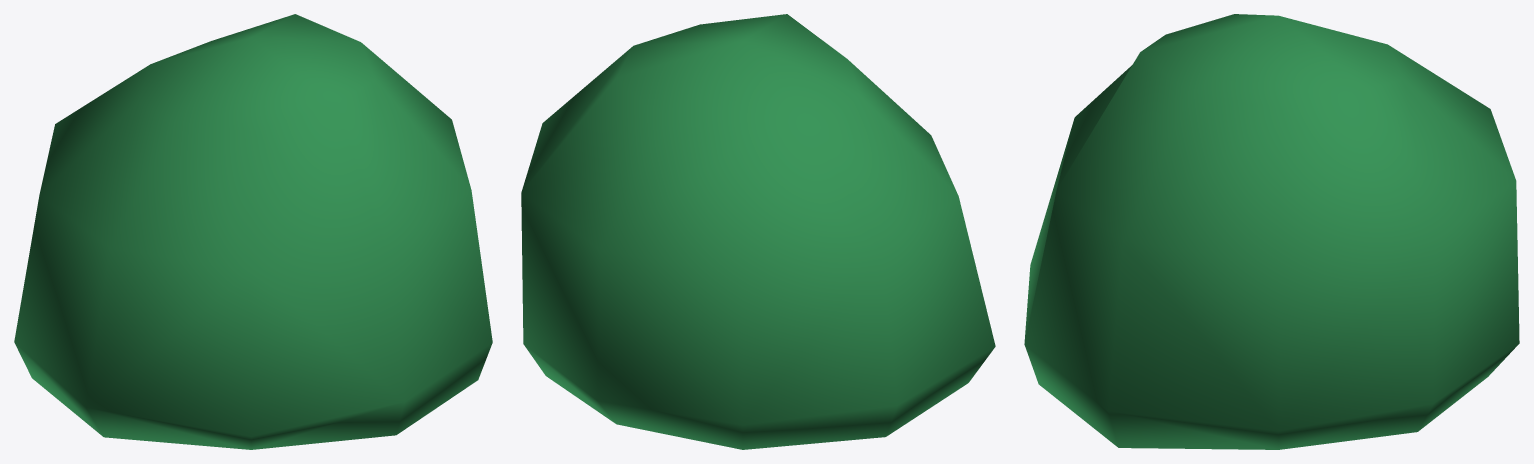
Rendered from flora_bush_boxwood.gltf.
The picture shows the model from 3 angles, left to right: view 1: azimuth 30°, elevation 25°; view 2: azimuth 150°, elevation 25°; view 3: azimuth 270°, elevation 25°; orthographic projection. The views are drawn at different scales.
Visible parts, largest first — view 1: flora_bush_boxwood; view 2: flora_bush_boxwood; view 3: flora_bush_boxwood.
Part boxes in pixels (bbox=[...]): flora_bush_boxwood: bbox=[14, 14, 492, 449]; flora_bush_boxwood: bbox=[521, 14, 995, 449]; flora_bush_boxwood: bbox=[1024, 14, 1519, 449].
Size of what is drawn, in the model's own units: 0.6731 by 0.5108 by 0.6517.
